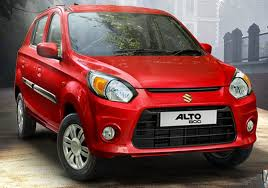car: (14, 6, 266, 178)
